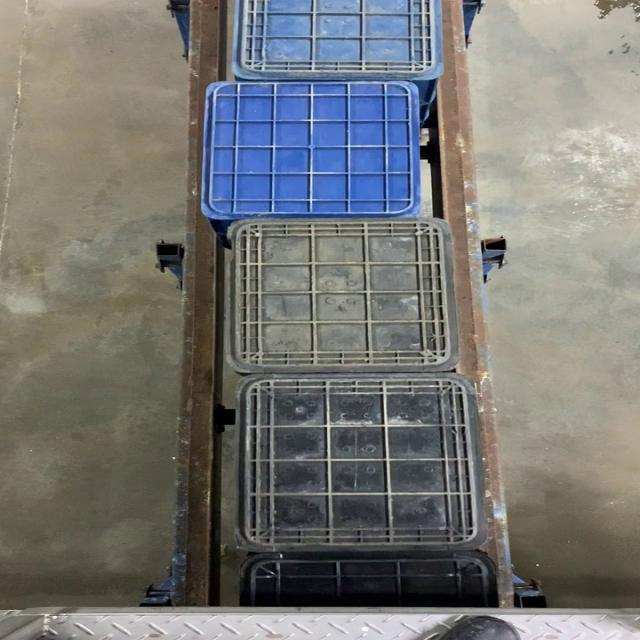Box: (235, 370, 487, 552), (226, 219, 460, 371), (200, 81, 420, 219)
